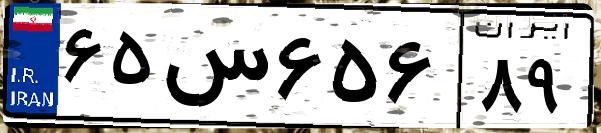5: (330, 28, 385, 110), (110, 28, 158, 98)
6: (270, 28, 330, 110), (385, 28, 445, 110), (57, 26, 110, 100)
8: (475, 38, 525, 113)
9: (525, 38, 570, 115)
س: (158, 20, 270, 120)
